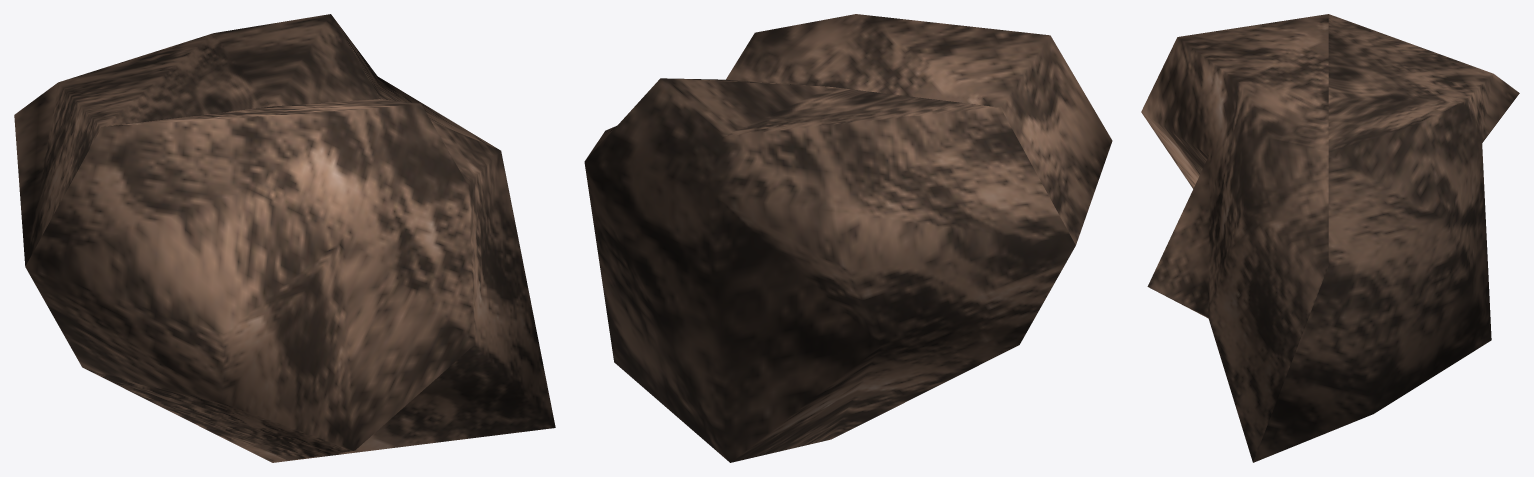
File: ast2.dae
3 renders of one model, left to right at view 1: azimuth 30°, elevation 25°; view 2: azimuth 150°, elevation 25°; view 3: azimuth 270°, elevation 25°, orthographic. The views are drawn at different scales.
Visible parts, largest first — view 1: pCube1; view 2: pCube1; view 3: pCube1.
Part boxes in pixels (x1,y1,x2,y2): pCube1: [14, 14, 555, 462]; pCube1: [584, 14, 1112, 462]; pCube1: [1141, 14, 1519, 462].
Bounding box in the file's own units: 5.01 × 3.81 × 4.27.
Materials: 1 (1 with a texture image).
